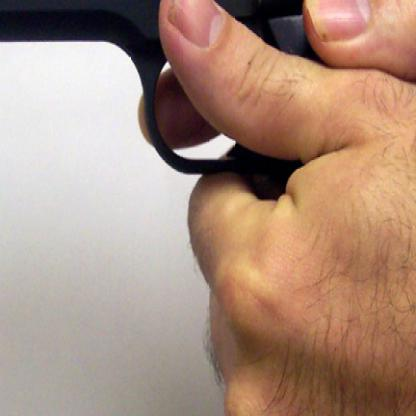gun: (0, 0, 415, 214)
